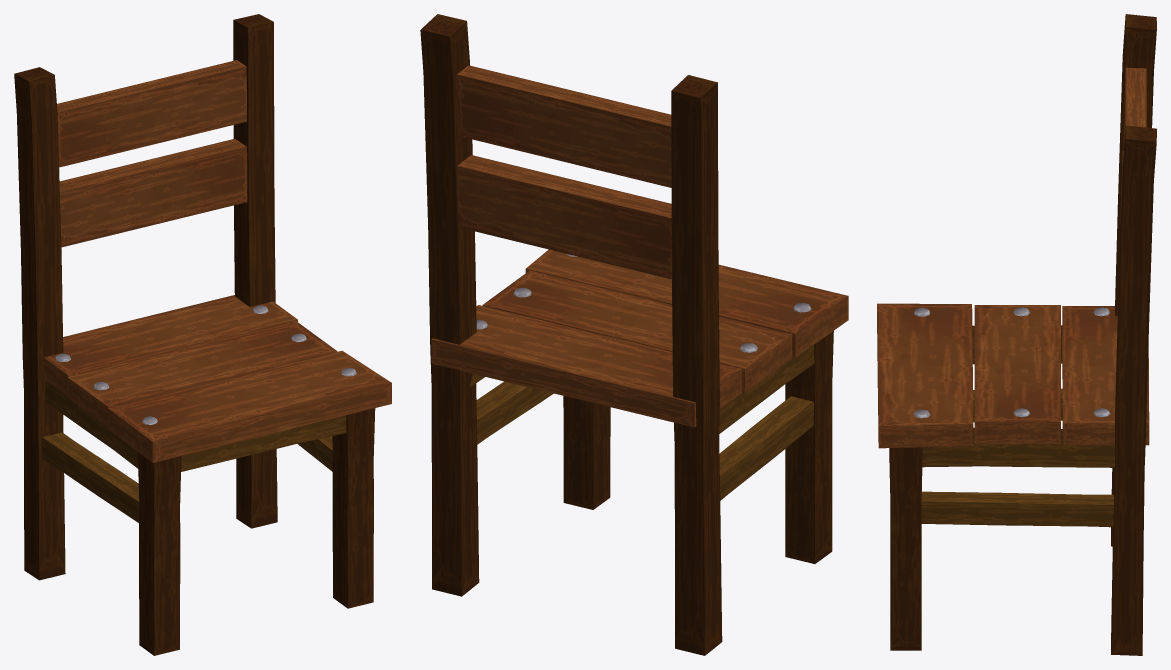
Rendered from Chair_1.gltf.
3 views of the same model, side by side, from view 1: azimuth 30°, elevation 25°; view 2: azimuth 150°, elevation 25°; view 3: azimuth 270°, elevation 25° (orthographic). The views are drawn at different scales.
Visible parts, largest first — view 1: Chair_1; view 2: Chair_1; view 3: Chair_1.
Boxes of the visible parts, bbox=[...] form: Chair_1: bbox=[14, 14, 391, 655]; Chair_1: bbox=[420, 14, 848, 655]; Chair_1: bbox=[877, 14, 1156, 655].
Size of the model in its own units: 0.5805 by 1.12 by 0.5489.
Materials: 2 (2 with a texture image).
